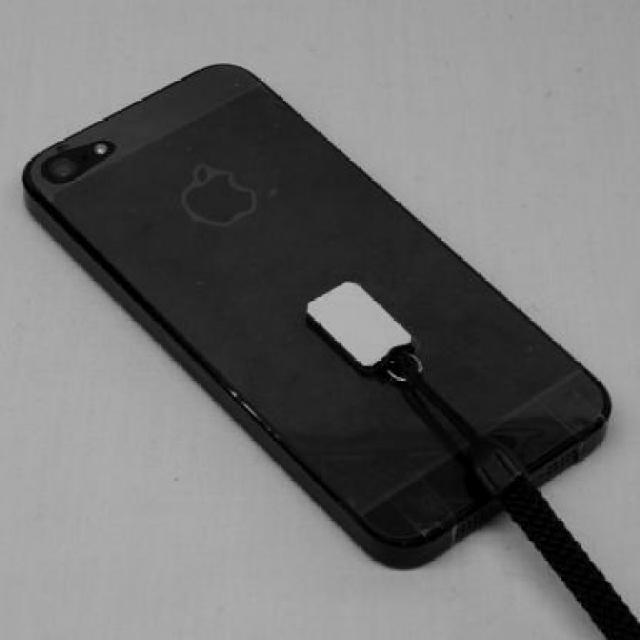fake: (12, 52, 620, 578)
